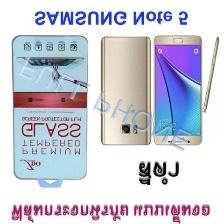book: (8, 31, 90, 184)
phone: (94, 32, 155, 148), (153, 32, 202, 149)
